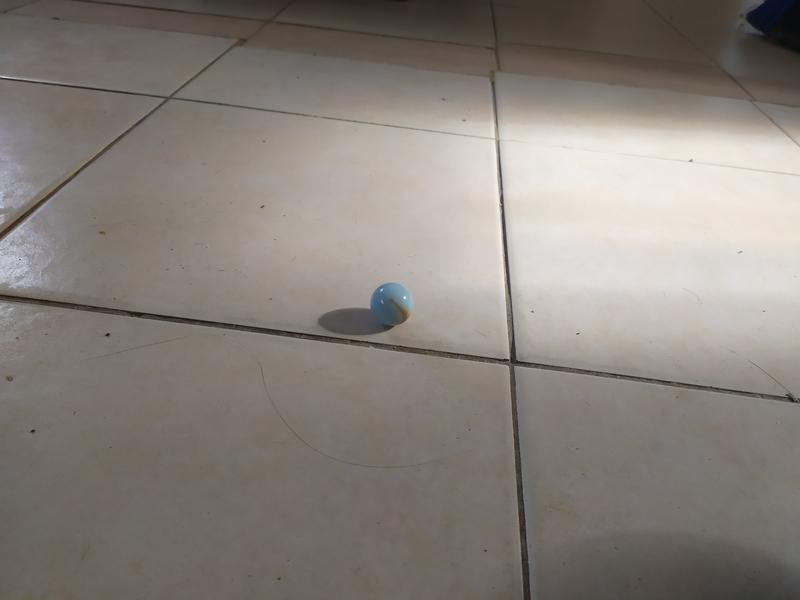Warning: (368, 280, 417, 328)
